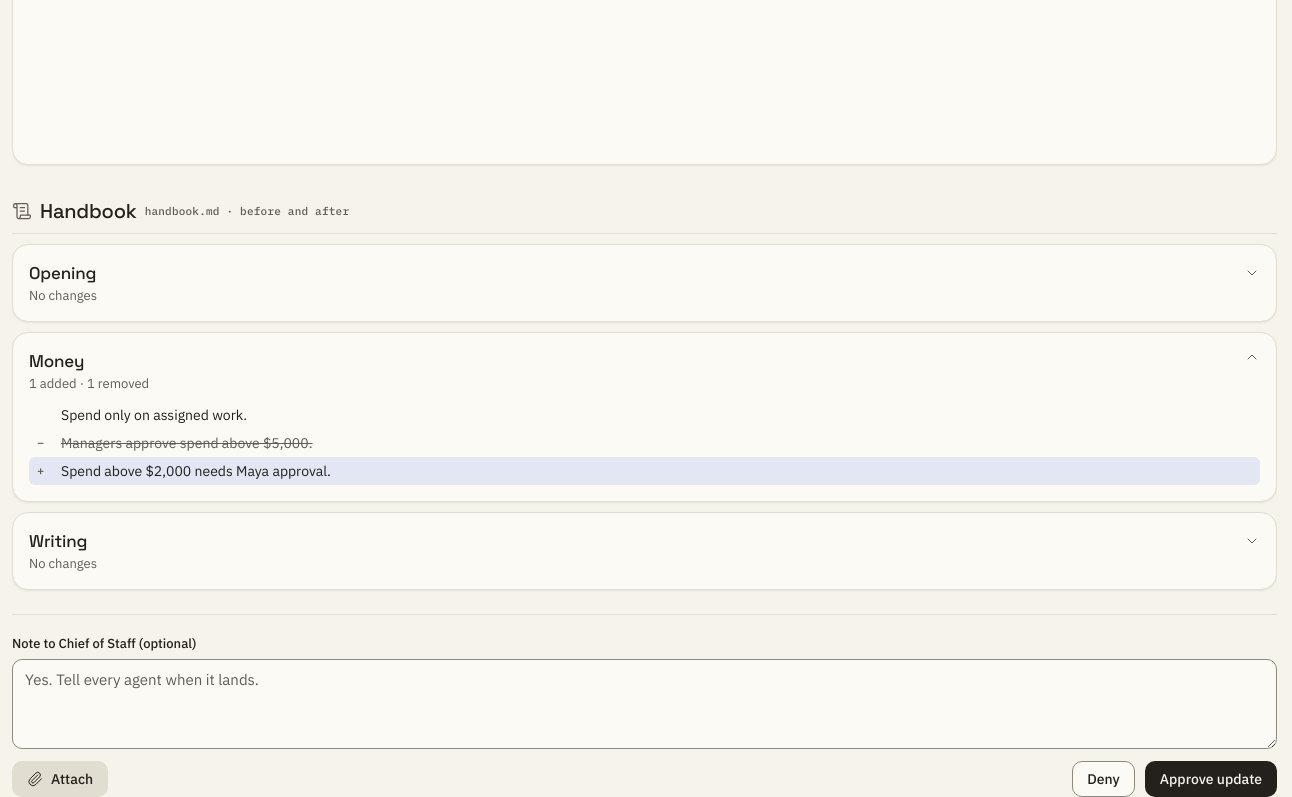
Test: Proposal page › denies through the same form and shows the denial
(page scrolled)
Click the button "Deny": (1104, 779) top-left (1072, 761), bottom-right (1135, 796)
(page scrolled)
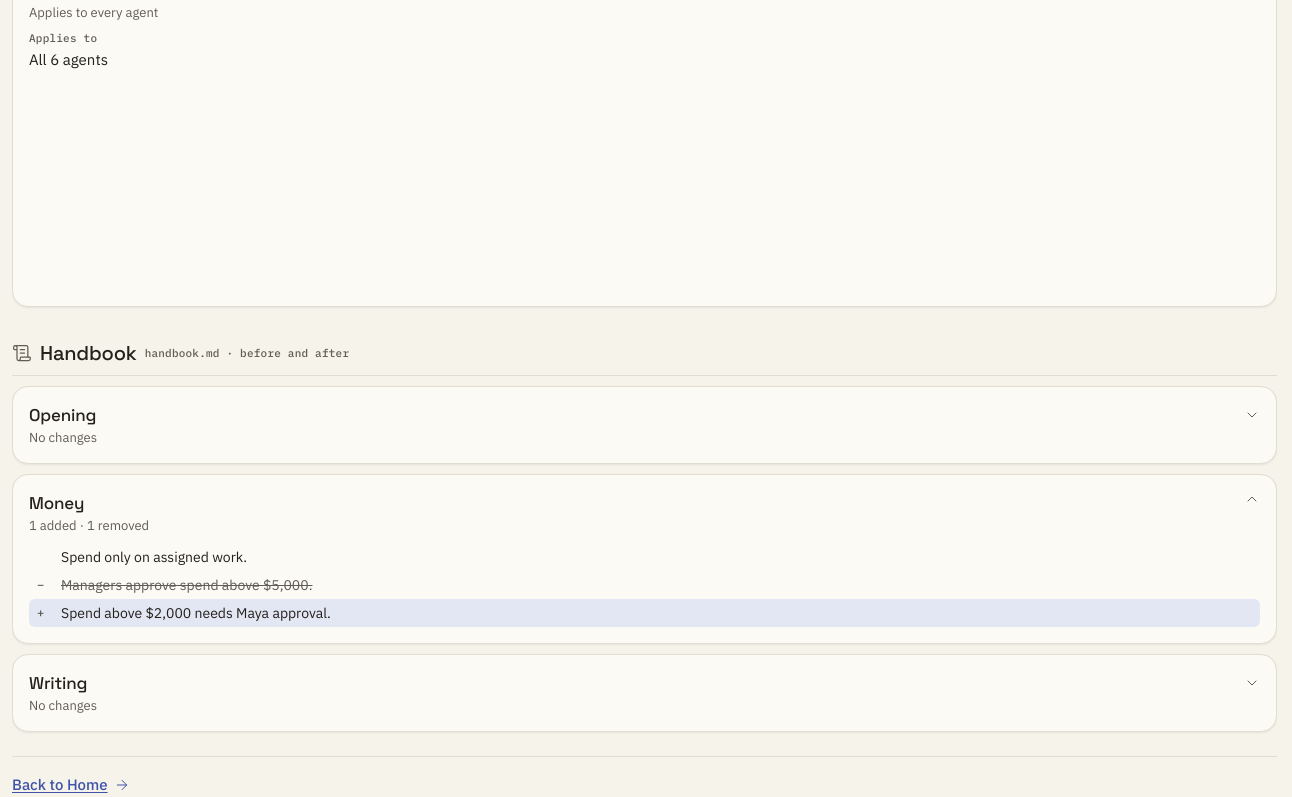
Expected: the button "Approve update" is gone
Expected: the link "Back to Home" is shown, top-left (12, 773), bottom-right (130, 796)
